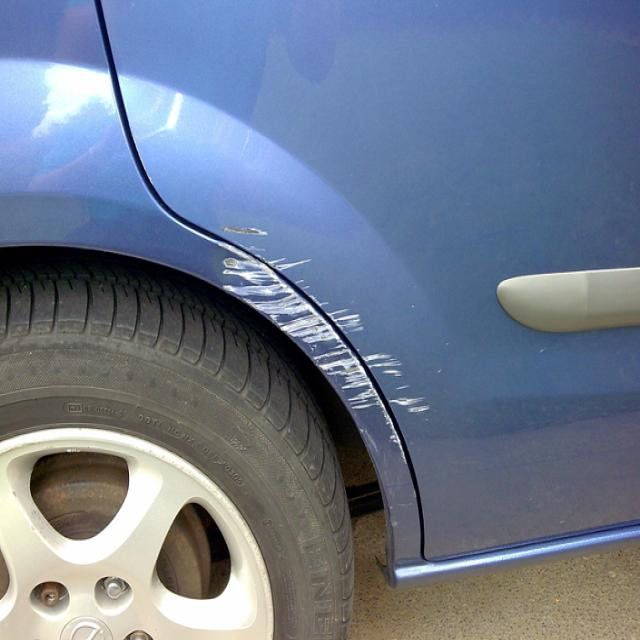Scratch: (215, 219, 402, 423)
